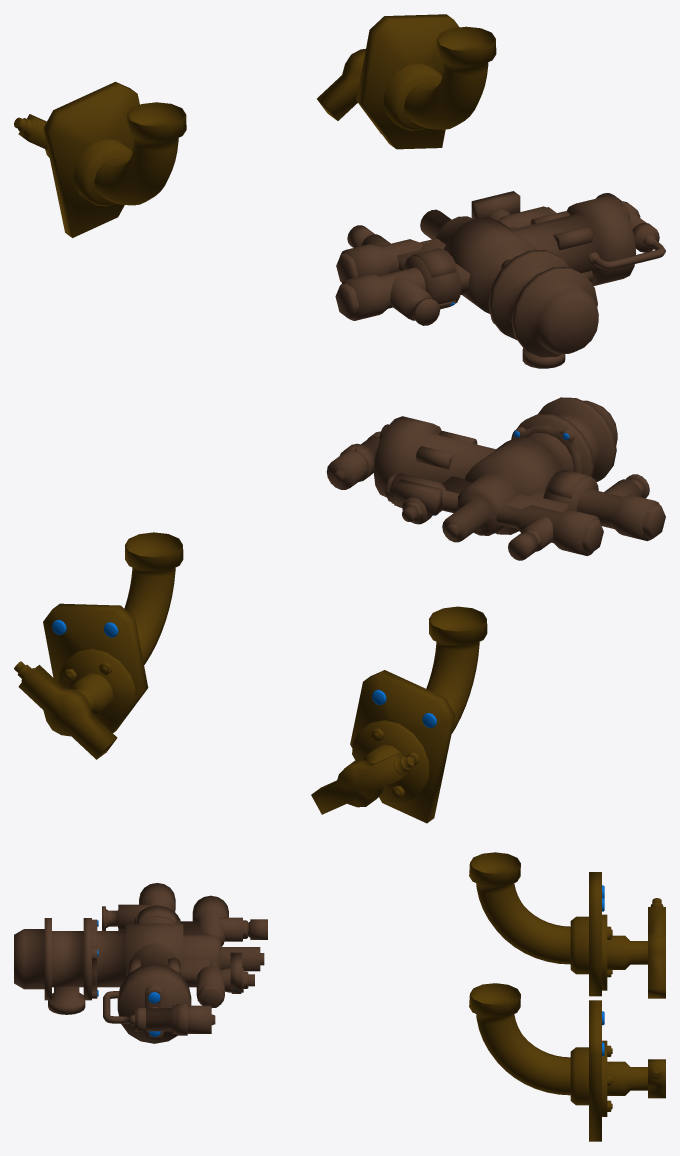
The model's file is Gates.fbx.
3 renders of one model, top to bottom at view 1: azimuth 30°, elevation 25°; view 2: azimuth 150°, elevation 25°; view 3: azimuth 270°, elevation 25°, orthographic. The views are drawn at different scales.
Parts seen in each view (by area): view 1: WaterPump, Gates; view 2: Gates, WaterPump; view 3: WaterPump, Gates.
Part boxes in pixels (<box>): WaterPump: <box>335,191,665,368</box>; Gates: <box>14,14,496,237</box>; Gates: <box>14,532,487,823</box>; WaterPump: <box>326,397,665,560</box>; WaterPump: <box>14,883,267,1043</box>; Gates: <box>469,852,665,1141</box>.
Bounding box in the file's own units: 60.99 × 22.08 × 96.38.
